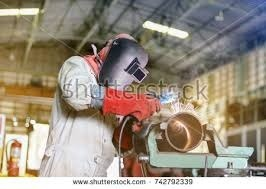person without safety: (36, 30, 164, 178)
